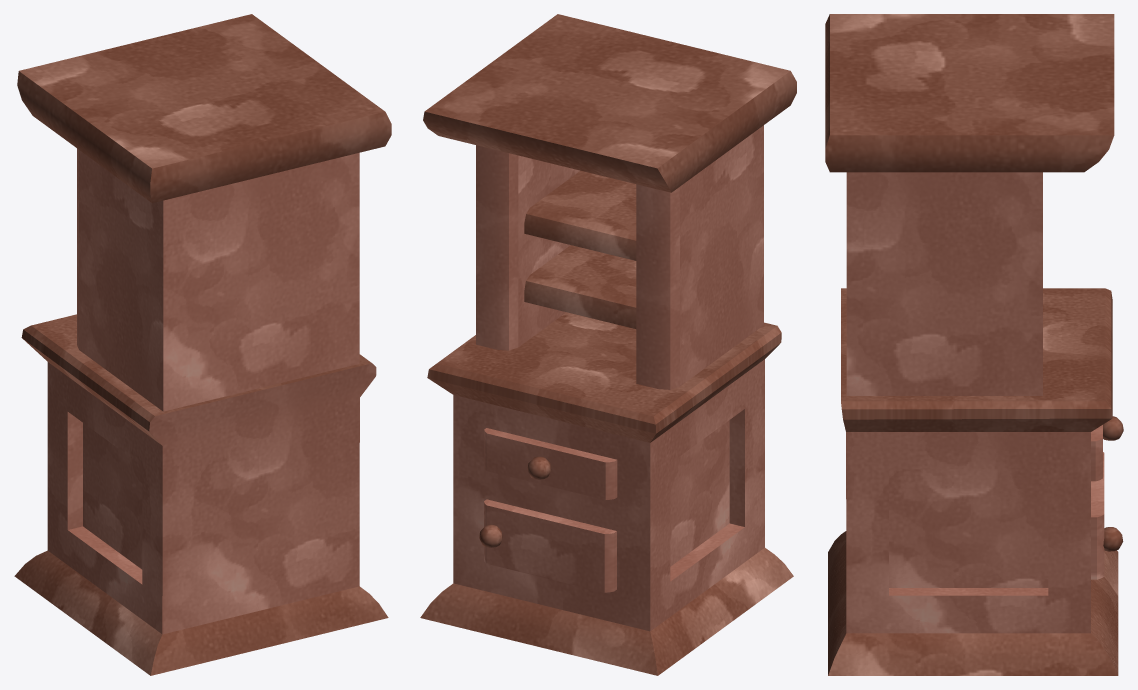
Rendered from SM_Tall_Dresser.fbx.
The picture shows the model from 3 angles, left to right: view 1: azimuth 30°, elevation 25°; view 2: azimuth 150°, elevation 25°; view 3: azimuth 270°, elevation 25°; orthographic projection. The views are drawn at different scales.
Parts seen in each view (by area): view 1: SM_Tall_Dresser_pt2, SM_Tall_Dresser_pt1; view 2: SM_Tall_Dresser_pt1, SM_Tall_Dresser_pt2; view 3: SM_Tall_Dresser_pt2, SM_Tall_Dresser_pt1.
Part boxes in pixels (box(x1,y1,x2,y2)): SM_Tall_Dresser_pt2: box(17, 14, 391, 411); SM_Tall_Dresser_pt1: box(14, 314, 388, 675); SM_Tall_Dresser_pt1: box(420, 312, 793, 675); SM_Tall_Dresser_pt2: box(423, 14, 796, 389); SM_Tall_Dresser_pt2: box(825, 14, 1114, 395); SM_Tall_Dresser_pt1: box(828, 288, 1123, 675).
Size of the model in its own units: 99.5 by 100 by 200.
1 material, 1 textured.
